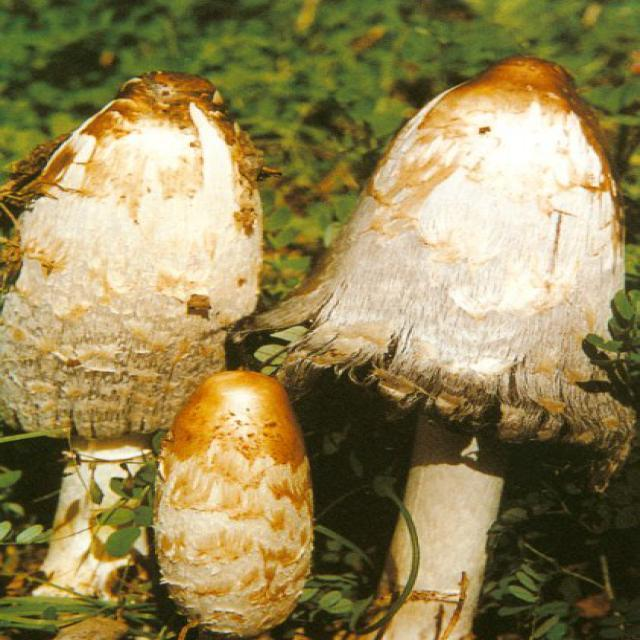Coprinus comatus: (265, 55, 640, 639), (10, 74, 263, 608), (170, 369, 307, 636)
